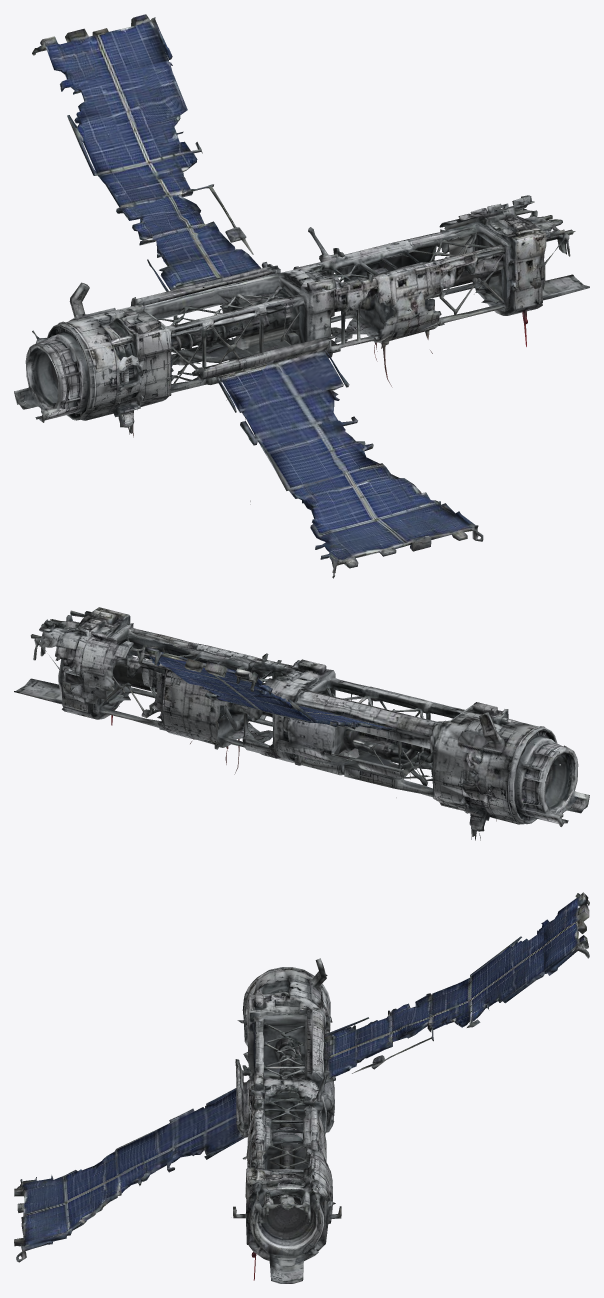
Rendered from obj_satellite.glb.
The picture shows the model from 3 angles, top to bottom: view 1: azimuth 30°, elevation 25°; view 2: azimuth 150°, elevation 25°; view 3: azimuth 270°, elevation 25°; orthographic projection. The views are drawn at different scales.
Visible parts, largest first — view 1: tripo_node_dc669556-a74a-4236-a38c-eda20c0e9d50; view 2: tripo_node_dc669556-a74a-4236-a38c-eda20c0e9d50; view 3: tripo_node_dc669556-a74a-4236-a38c-eda20c0e9d50.
Boxes of the visible parts, x1,y1,x2,y2 form: tripo_node_dc669556-a74a-4236-a38c-eda20c0e9d50: (14, 14, 589, 578); tripo_node_dc669556-a74a-4236-a38c-eda20c0e9d50: (14, 607, 589, 840); tripo_node_dc669556-a74a-4236-a38c-eda20c0e9d50: (14, 892, 589, 1283).
Size of the model in its own units: 0.9992 by 0.5784 by 0.9489.
1 material, 1 textured.
